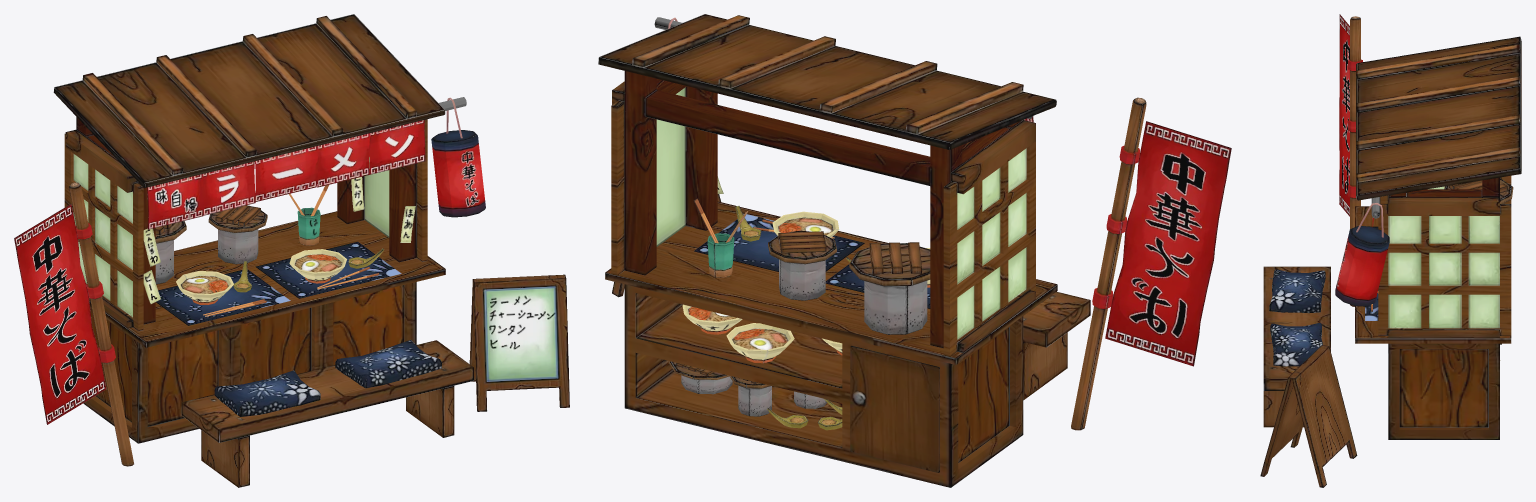
Rendered from ramen.glb.
3 renders of one model, left to right at view 1: azimuth 30°, elevation 25°; view 2: azimuth 150°, elevation 25°; view 3: azimuth 270°, elevation 25°, orthographic. The views are drawn at different scales.
Parts seen in each view (by area): view 1: ramen; view 2: ramen; view 3: ramen.
Boxes of the visible parts, box(x1,y1,x2,y2) form: ramen: box(14, 14, 569, 487); ramen: box(598, 14, 1231, 487); ramen: box(1260, 14, 1521, 487).
Size of the model in its own units: 6.13 by 3.4 by 2.85.
1 material, 1 textured.
